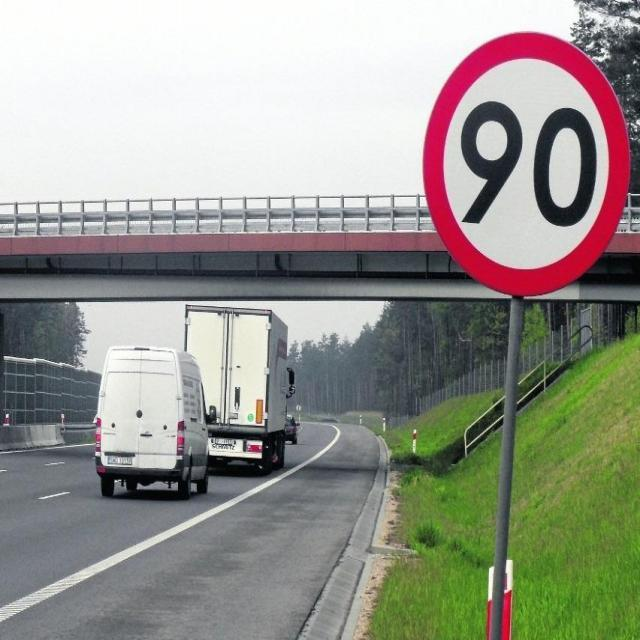speed limit 90: (422, 31, 629, 298)
